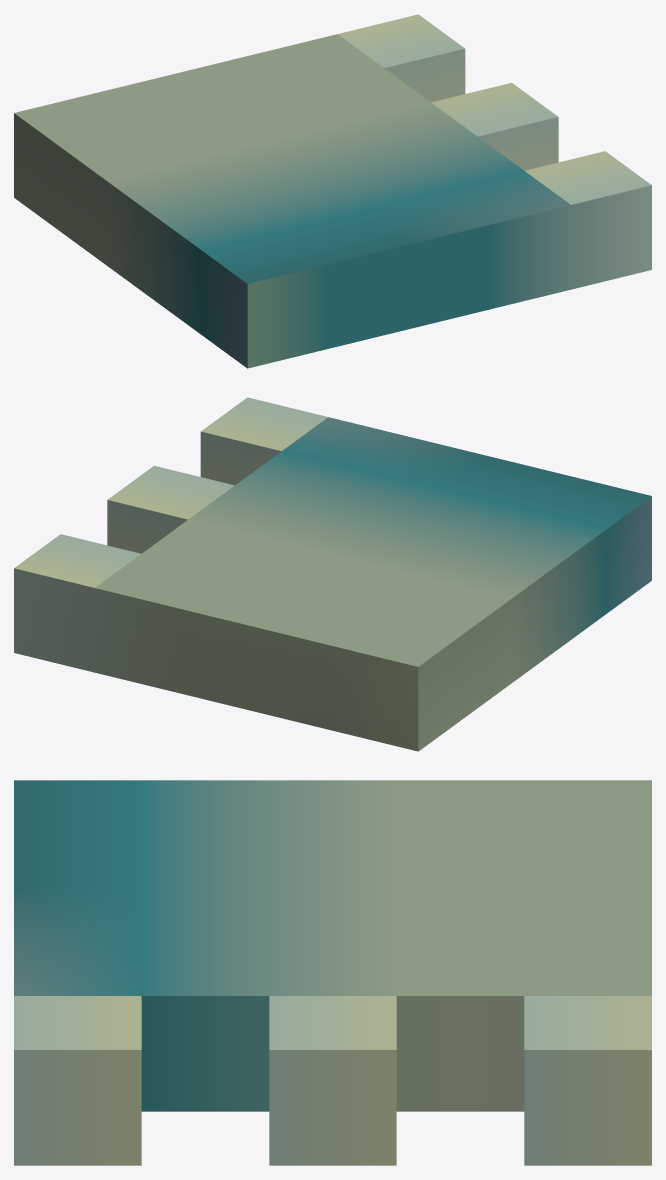
Rendered from NotepadBlue_00.fbx.
3 renders of one model, top to bottom at view 1: azimuth 30°, elevation 25°; view 2: azimuth 150°, elevation 25°; view 3: azimuth 270°, elevation 25°, orthographic. The views are drawn at different scales.
Parts seen in each view (by area): view 1: NotepadBlue_00; view 2: NotepadBlue_00; view 3: NotepadBlue_00.
Boxes of the visible parts, bbox=[...] form: NotepadBlue_00: bbox=[14, 14, 651, 368]; NotepadBlue_00: bbox=[14, 397, 651, 751]; NotepadBlue_00: bbox=[14, 780, 651, 1165].
Size of the model in its own units: 25 by 25 by 5.
Materials: 1 (1 with a texture image).
